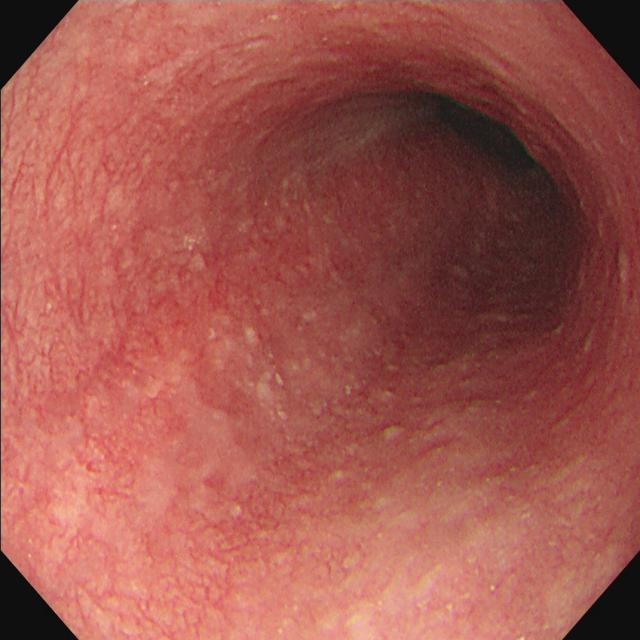E: (397, 84, 558, 201)
